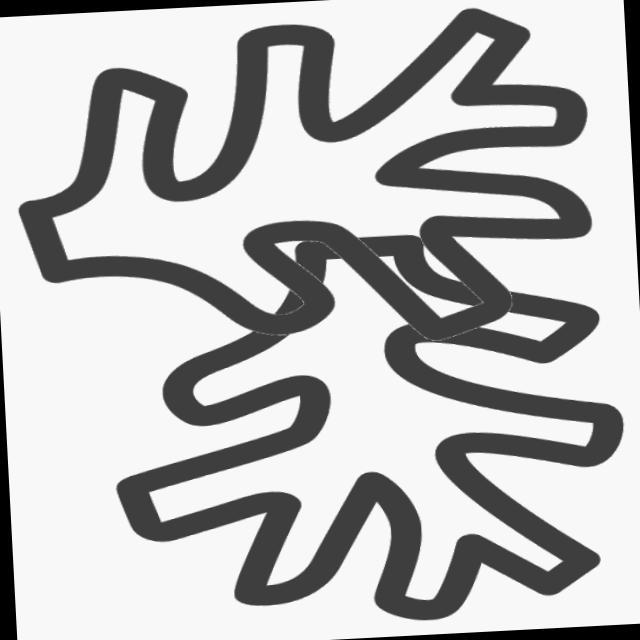coral: (1, 1, 629, 373), (86, 219, 640, 640)
